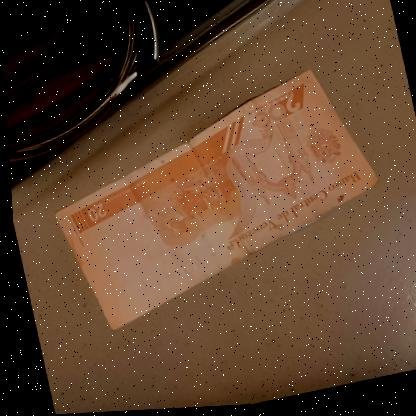twenty-back-vef: (30, 60, 397, 339)
